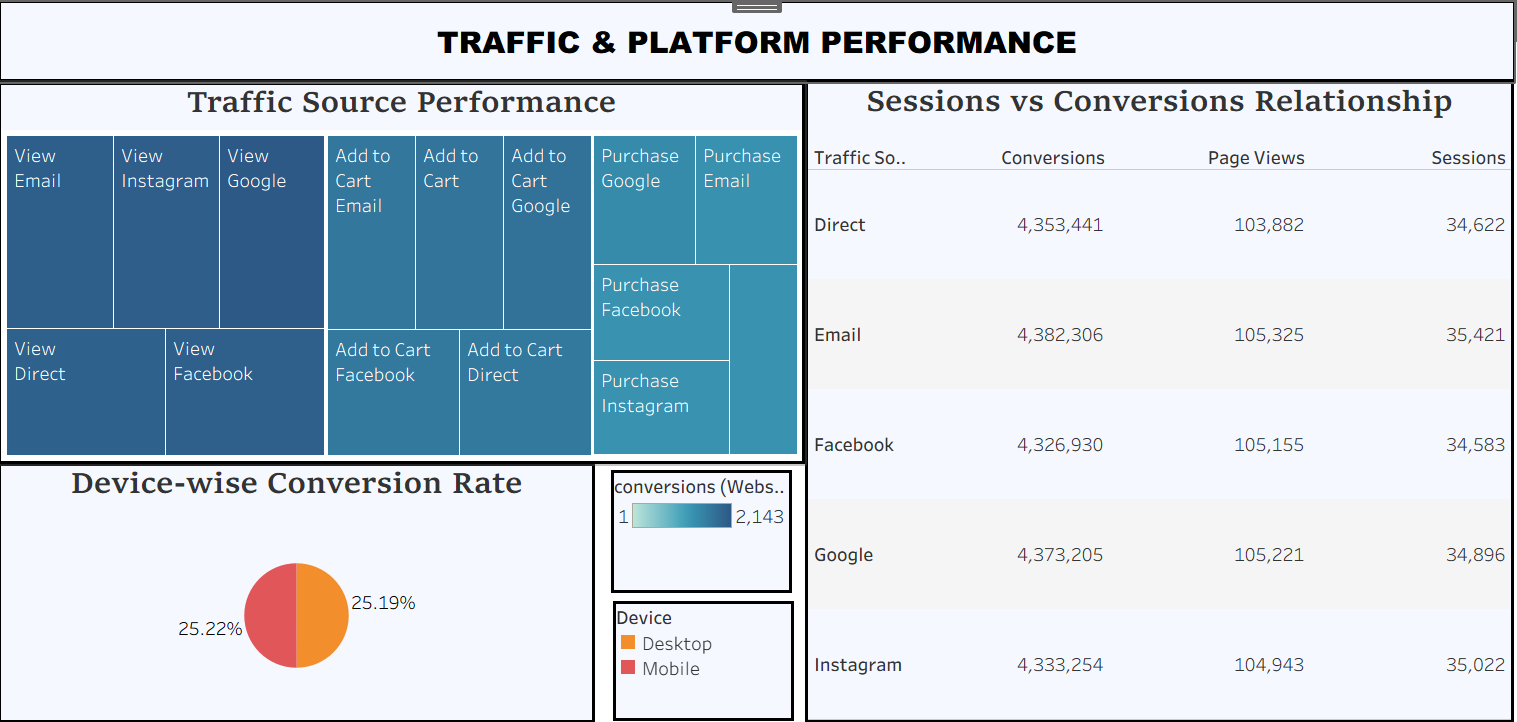

What the dashboard file says about the page in this screenshot:
{"tool":"tableau","page":{"name":"TRAFFIC & PLATFORM PERFORMANCE","canvas":[1000,1000],"units":"permille","ordinal":3},"visuals":[{"type":"text","box":[0.7,1.3,998.7,109.8]},{"type":"worksheet","title":"Sessions vs Conversions Relationship","mark":"Automatic","rows":["traffic_source"],"box":[531.6,109.8,466.4,859.4]},{"type":"worksheet","title":"Traffic Source Performance","mark":"Automatic","box":[0.7,111.1,530.9,511.4]},{"type":"worksheet","title":"Device-wise Conversion Rate","mark":"Pie","box":[0.7,621.1,392.8,348.1]},{"type":"legend","title":"Traffic Source Performance","param":"[federated.1ojs7vo06ltto31a78pu50yylxy6].[sum:conversions (Website!Traffic!Conve","box":[403.9,630.5,119.1,164.7]},{"type":"legend","title":"Device-wise Conversion Rate","param":"[federated.1ojs7vo06ltto31a78pu50yylxy6].[none:device:nk]","box":[405.3,805.9,119.1,160.6]}]}

Visuals, with their boxes on the dashboard's canvas, which has no fixed pixel size, in thousandths of its width and height (x1, y1, x2, y2). These are canvas units, not pixel positions in the 1517x722 screenshot, which may show the page scaled, cropped or inside an application window:
text: 1 1 999 111
"Sessions vs Conversions Relationship" worksheet: 532 110 998 969
"Traffic Source Performance" worksheet: 1 111 532 622
"Device-wise Conversion Rate" worksheet (Pie marks): 1 621 394 969
"Traffic Source Performance" legend: 404 630 523 795
"Device-wise Conversion Rate" legend: 405 806 524 966
